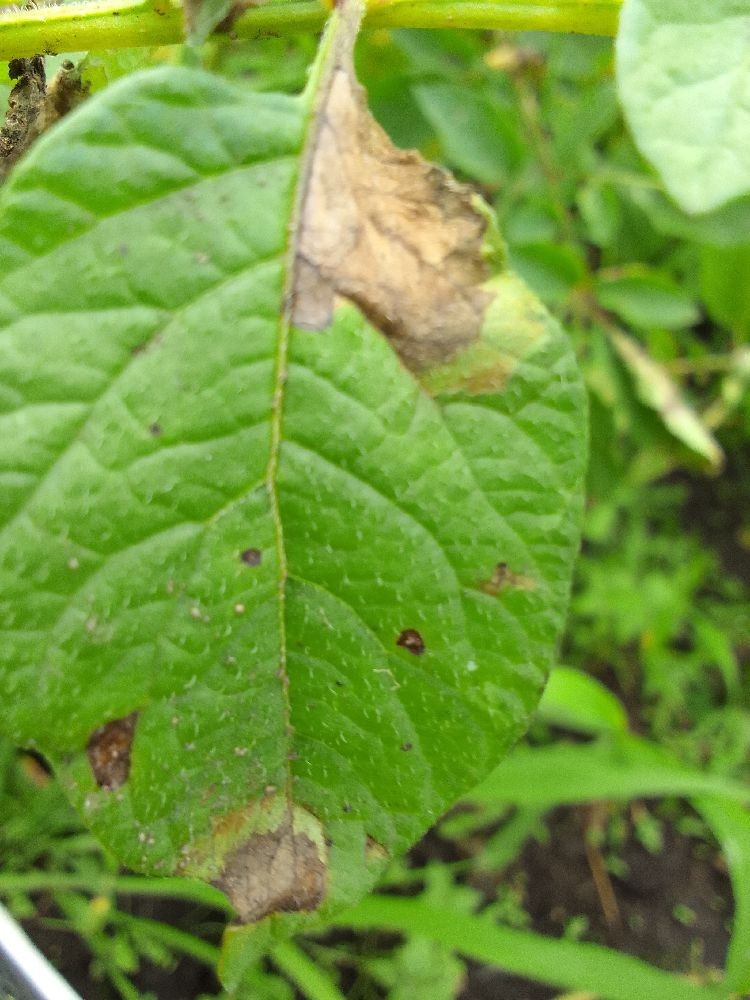late_blight: (242, 0, 542, 420), (396, 782, 748, 986), (87, 784, 359, 976), (627, 425, 750, 622)
